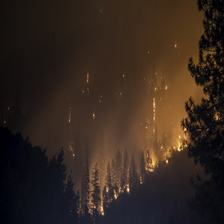fire: (79, 166, 137, 212), (144, 136, 187, 174)
